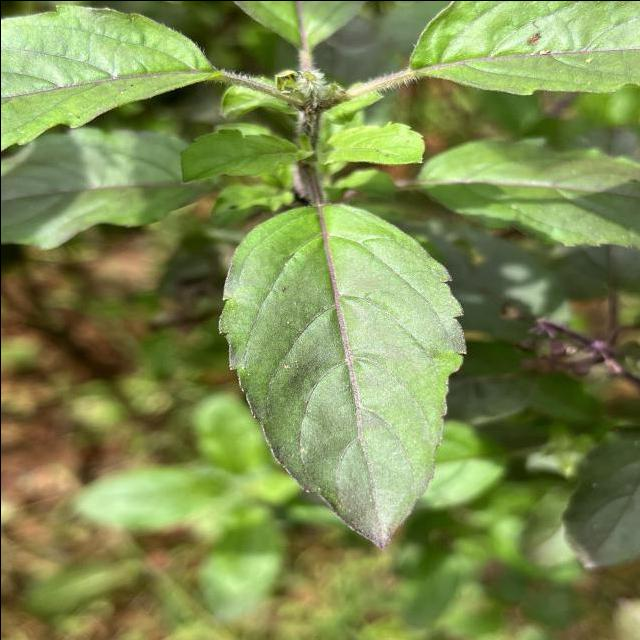Ocimum tenuiflorum: (208, 197, 470, 558)
